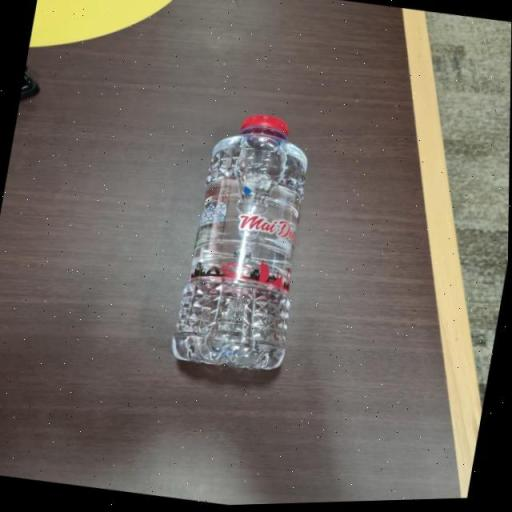plastic: (166, 106, 332, 380)
